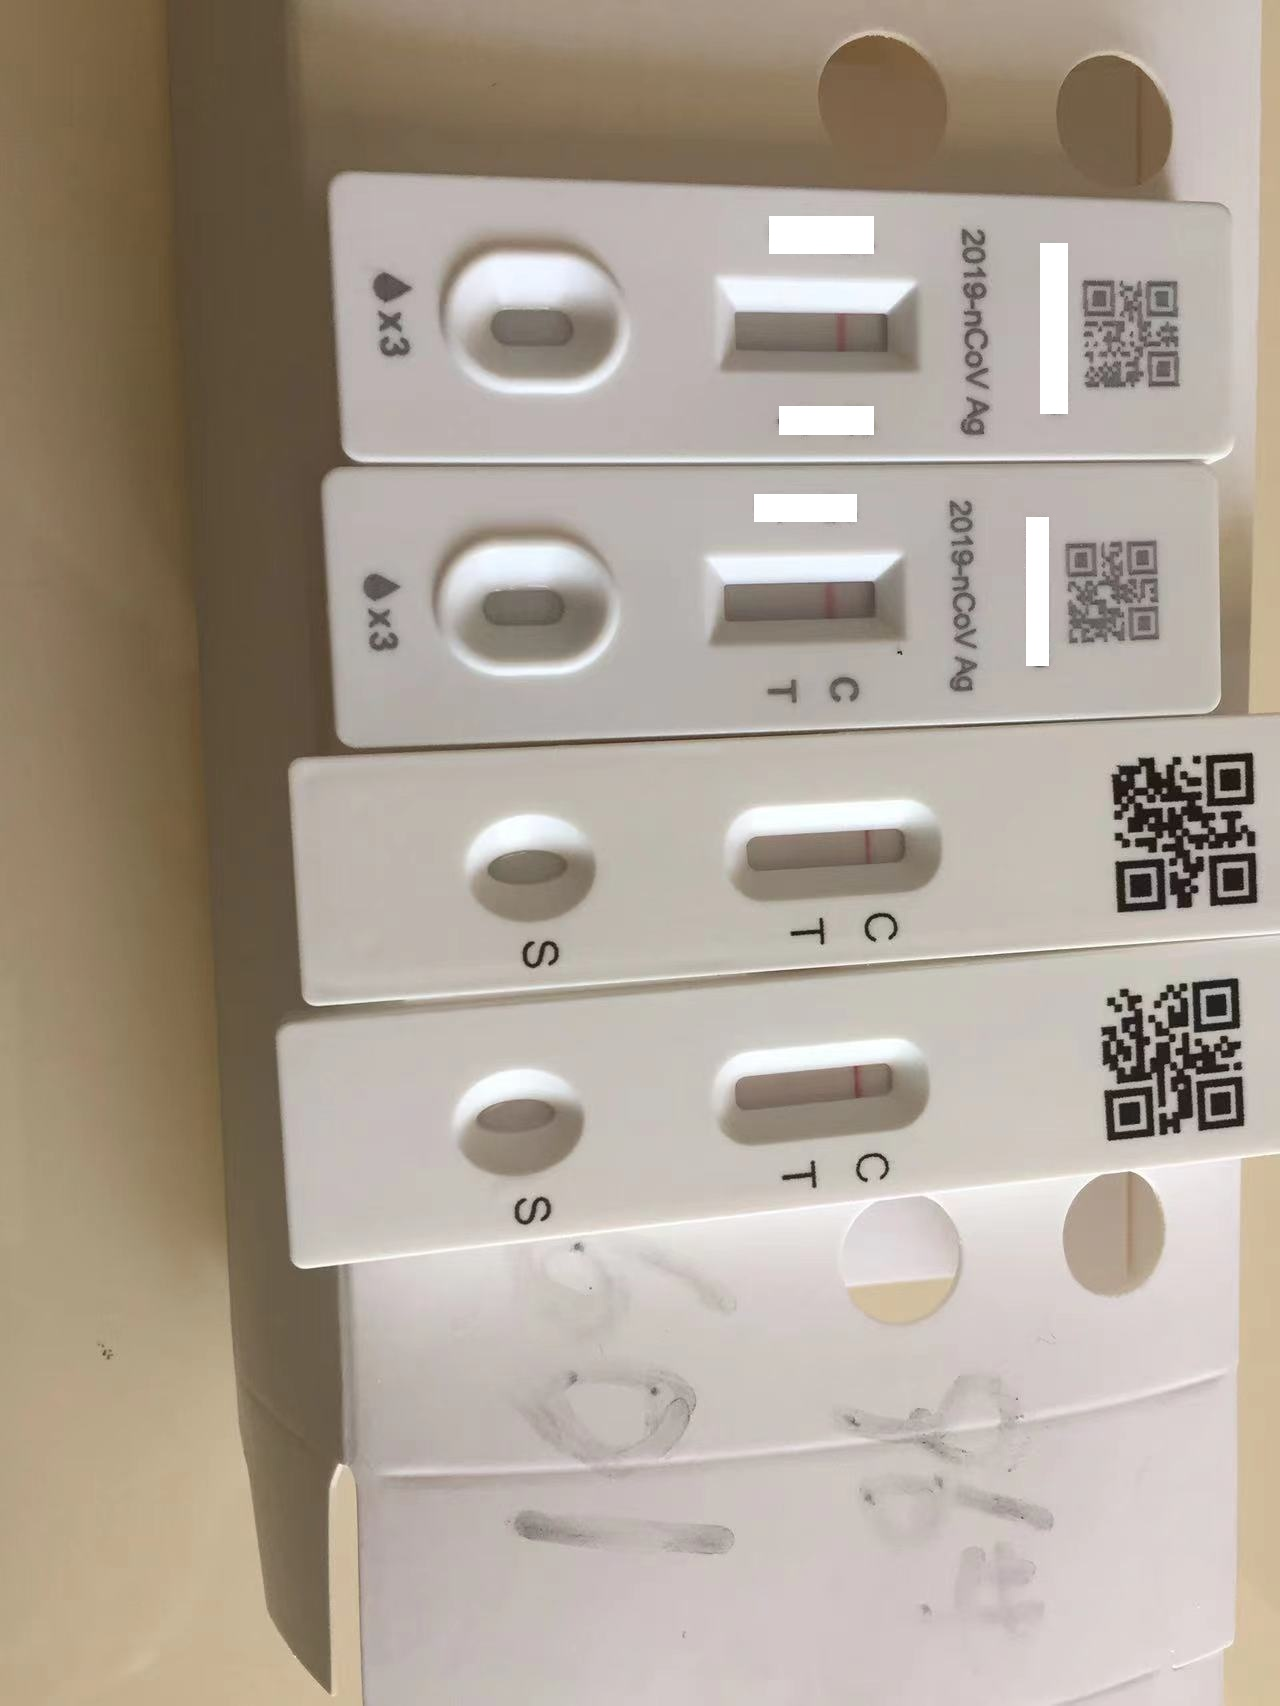negative: (713, 1041, 934, 1141), (721, 804, 943, 897), (702, 550, 916, 643), (713, 276, 916, 368)
